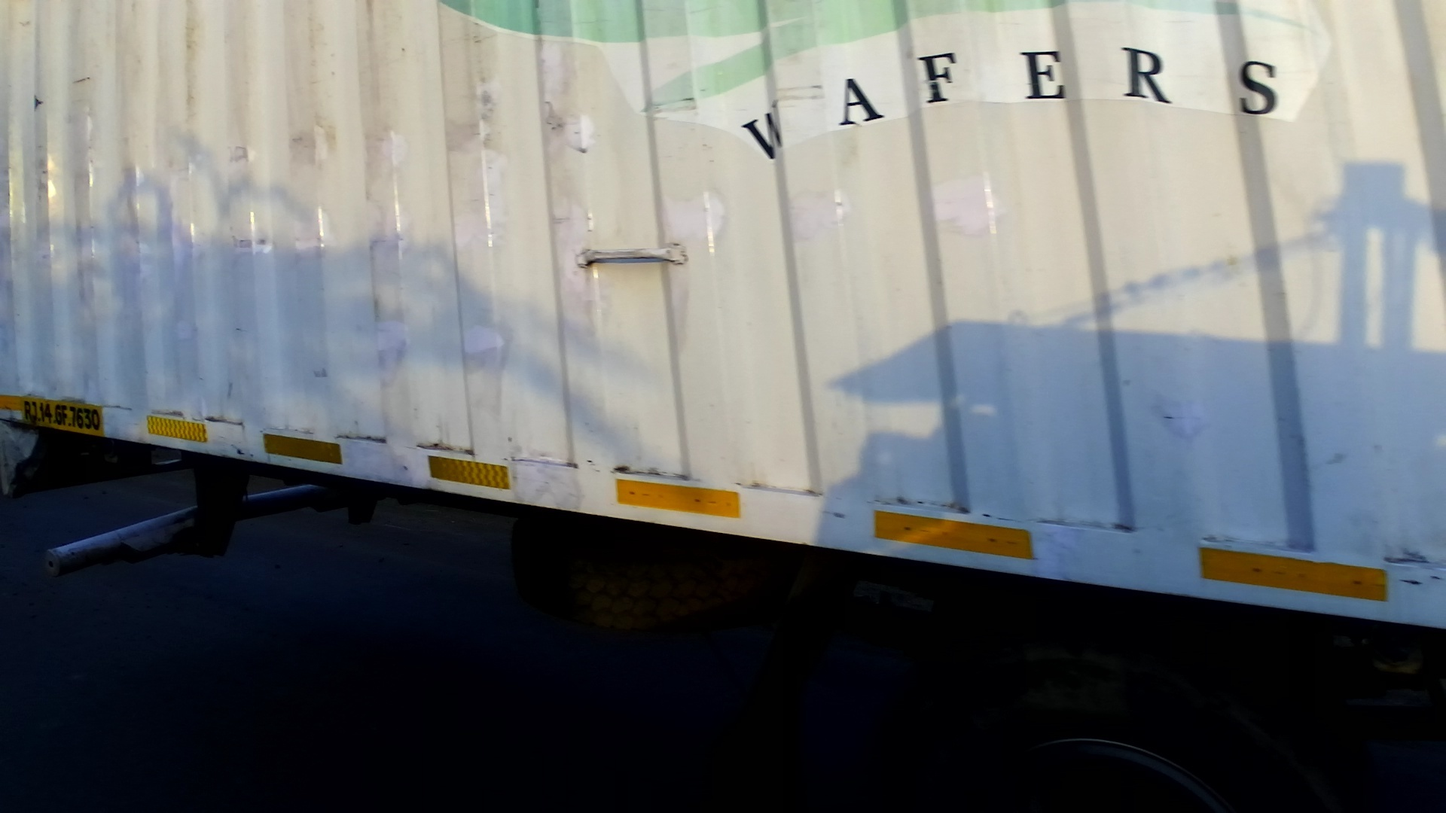truck: (1, 1, 1444, 813)
